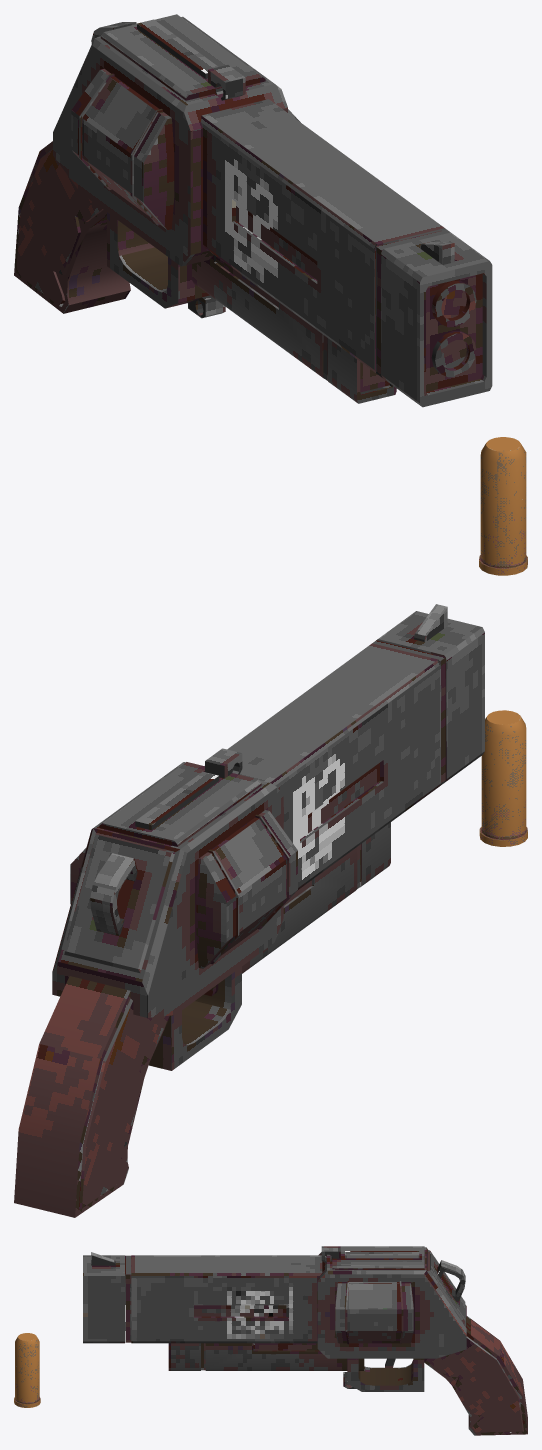
Rendered from Handcannon.glb.
The picture shows the model from 3 angles, top to bottom: view 1: azimuth 30°, elevation 25°; view 2: azimuth 150°, elevation 25°; view 3: azimuth 270°, elevation 25°; orthographic projection. The views are drawn at different scales.
Visible parts, largest first — view 1: Gun, Bullet; view 2: Gun, Bullet; view 3: Gun, Bullet.
Boxes of the visible parts, x1,y1,x2,y2 form: Gun: [14, 14, 492, 407]; Bullet: [479, 437, 527, 575]; Gun: [14, 604, 484, 1217]; Bullet: [479, 710, 527, 846]; Gun: [83, 1246, 527, 1435]; Bullet: [14, 1333, 40, 1407].
Bounding box in the file's own units: 0.334 × 0.6478 × 1.69.
2 materials, 2 textured.
